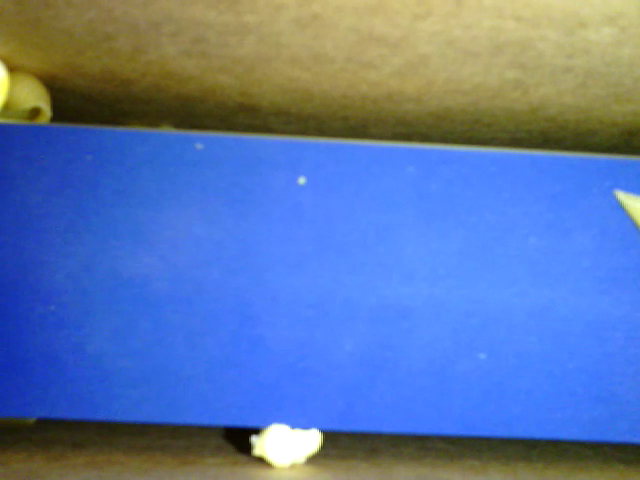penne: (613, 189, 639, 222)
shell: (2, 70, 53, 127)
